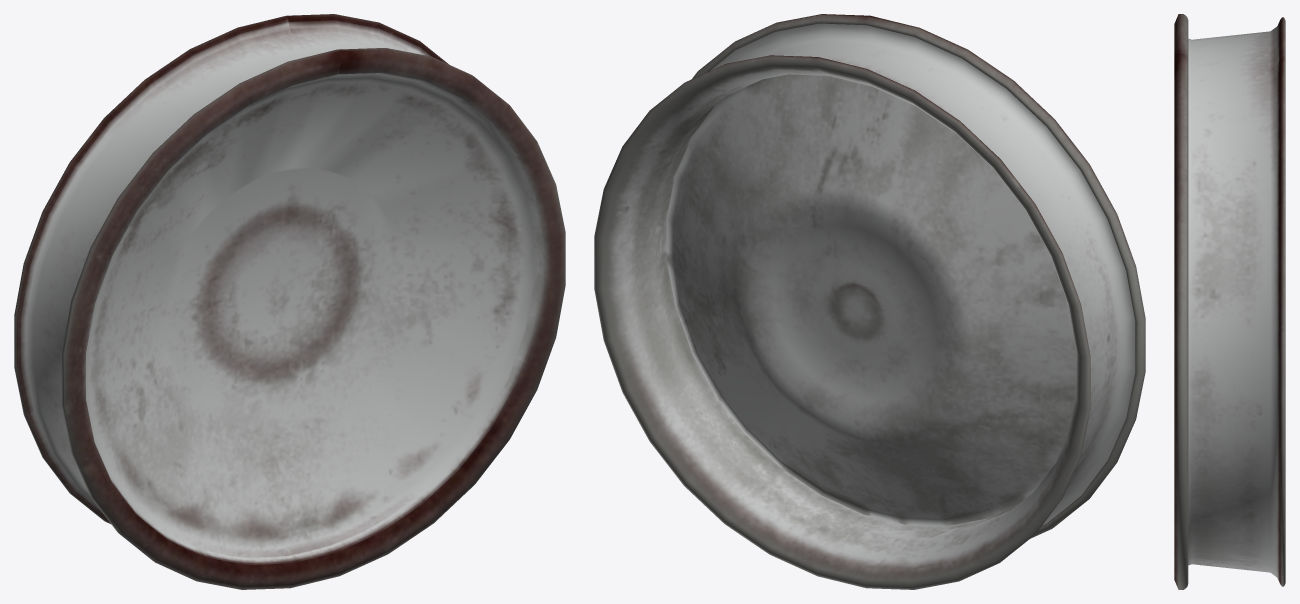
File: Prop_Rim_1.fbx
3 views of the same model, side by side, from view 1: azimuth 30°, elevation 25°; view 2: azimuth 150°, elevation 25°; view 3: azimuth 270°, elevation 25° (orthographic).
Parts seen in each view (by area): view 1: Prop_Rim_1; view 2: Prop_Rim_1; view 3: Prop_Rim_1.
Part boxes in pixels (x1,y1,x2,y2): Prop_Rim_1: [14, 14, 565, 589]; Prop_Rim_1: [594, 14, 1145, 589]; Prop_Rim_1: [1174, 14, 1285, 589].
Bounding box in the file's own units: 30.69 × 30.69 × 5.95.
